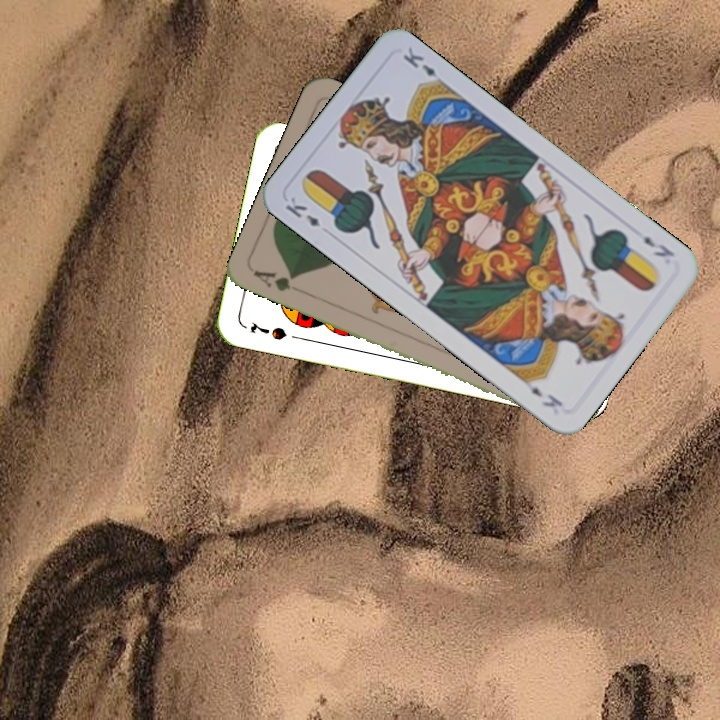EK: (281, 192, 323, 230), (639, 231, 677, 260)
GA: (249, 266, 307, 296)
S7: (246, 317, 289, 343)
